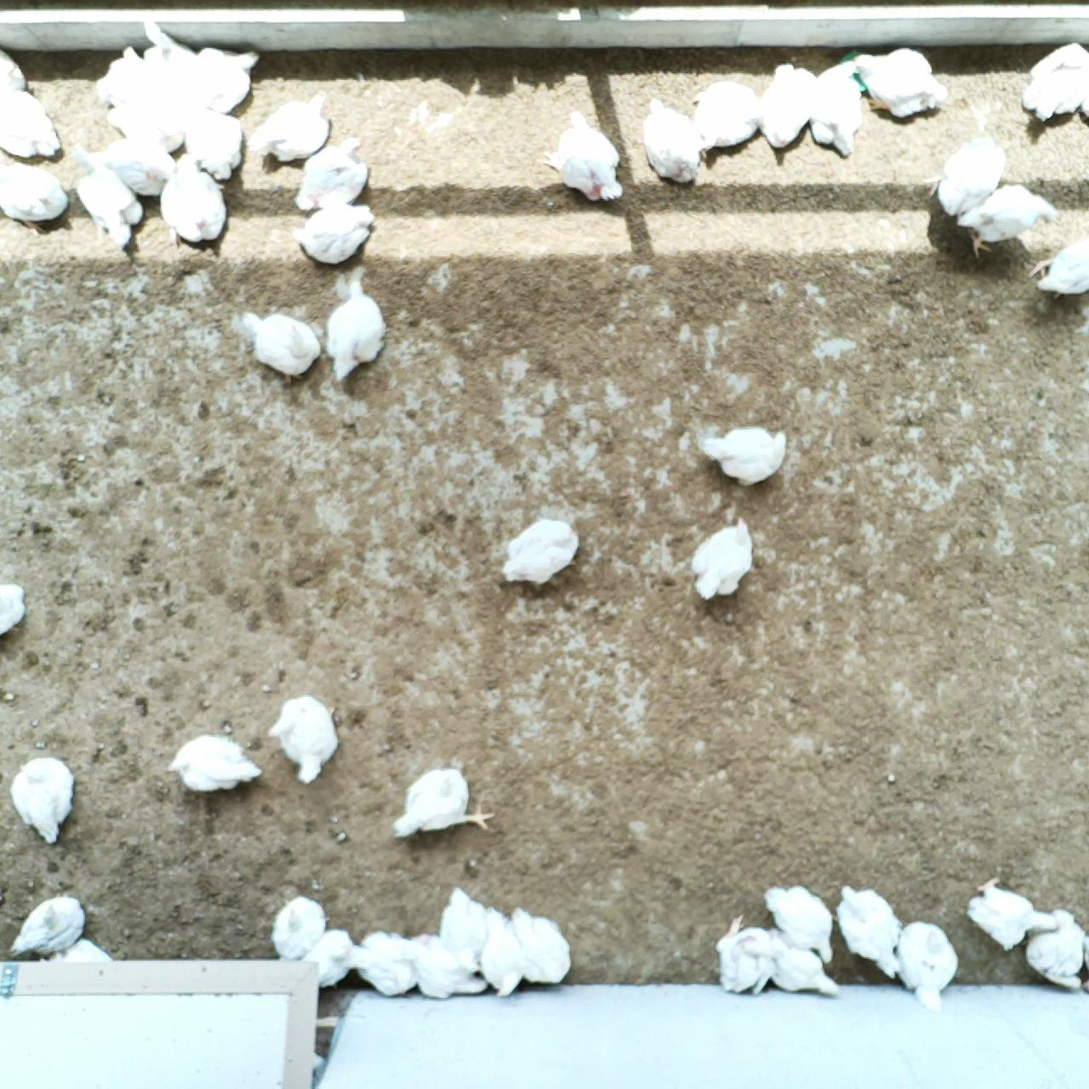chicken: (389, 763, 497, 844), (538, 108, 626, 206), (955, 181, 1059, 259), (965, 871, 1059, 954), (921, 132, 1010, 218), (265, 693, 342, 789), (157, 150, 229, 252), (246, 86, 335, 168), (852, 44, 948, 119), (70, 135, 178, 201), (834, 881, 904, 982), (324, 277, 390, 384), (892, 917, 961, 1015), (239, 306, 321, 388), (162, 733, 265, 798), (7, 753, 78, 847), (75, 155, 145, 250), (761, 879, 837, 964), (689, 513, 757, 606), (1019, 34, 1089, 123), (762, 924, 841, 1002), (641, 95, 705, 190), (498, 516, 580, 590), (701, 423, 790, 491), (808, 58, 867, 160), (711, 909, 778, 998), (295, 138, 371, 215), (183, 43, 264, 115), (9, 888, 92, 958), (507, 901, 574, 987), (757, 61, 820, 150), (1022, 907, 1089, 990), (103, 90, 191, 153), (292, 201, 376, 267), (181, 97, 246, 182), (690, 78, 762, 154), (409, 933, 490, 999), (137, 18, 197, 106), (0, 159, 71, 233), (434, 883, 490, 975), (90, 46, 163, 116), (477, 904, 528, 1000), (0, 86, 65, 161), (1022, 231, 1089, 302), (347, 930, 420, 995), (272, 891, 328, 964), (302, 929, 358, 989), (36, 936, 114, 963), (0, 580, 27, 638), (0, 43, 31, 93)
